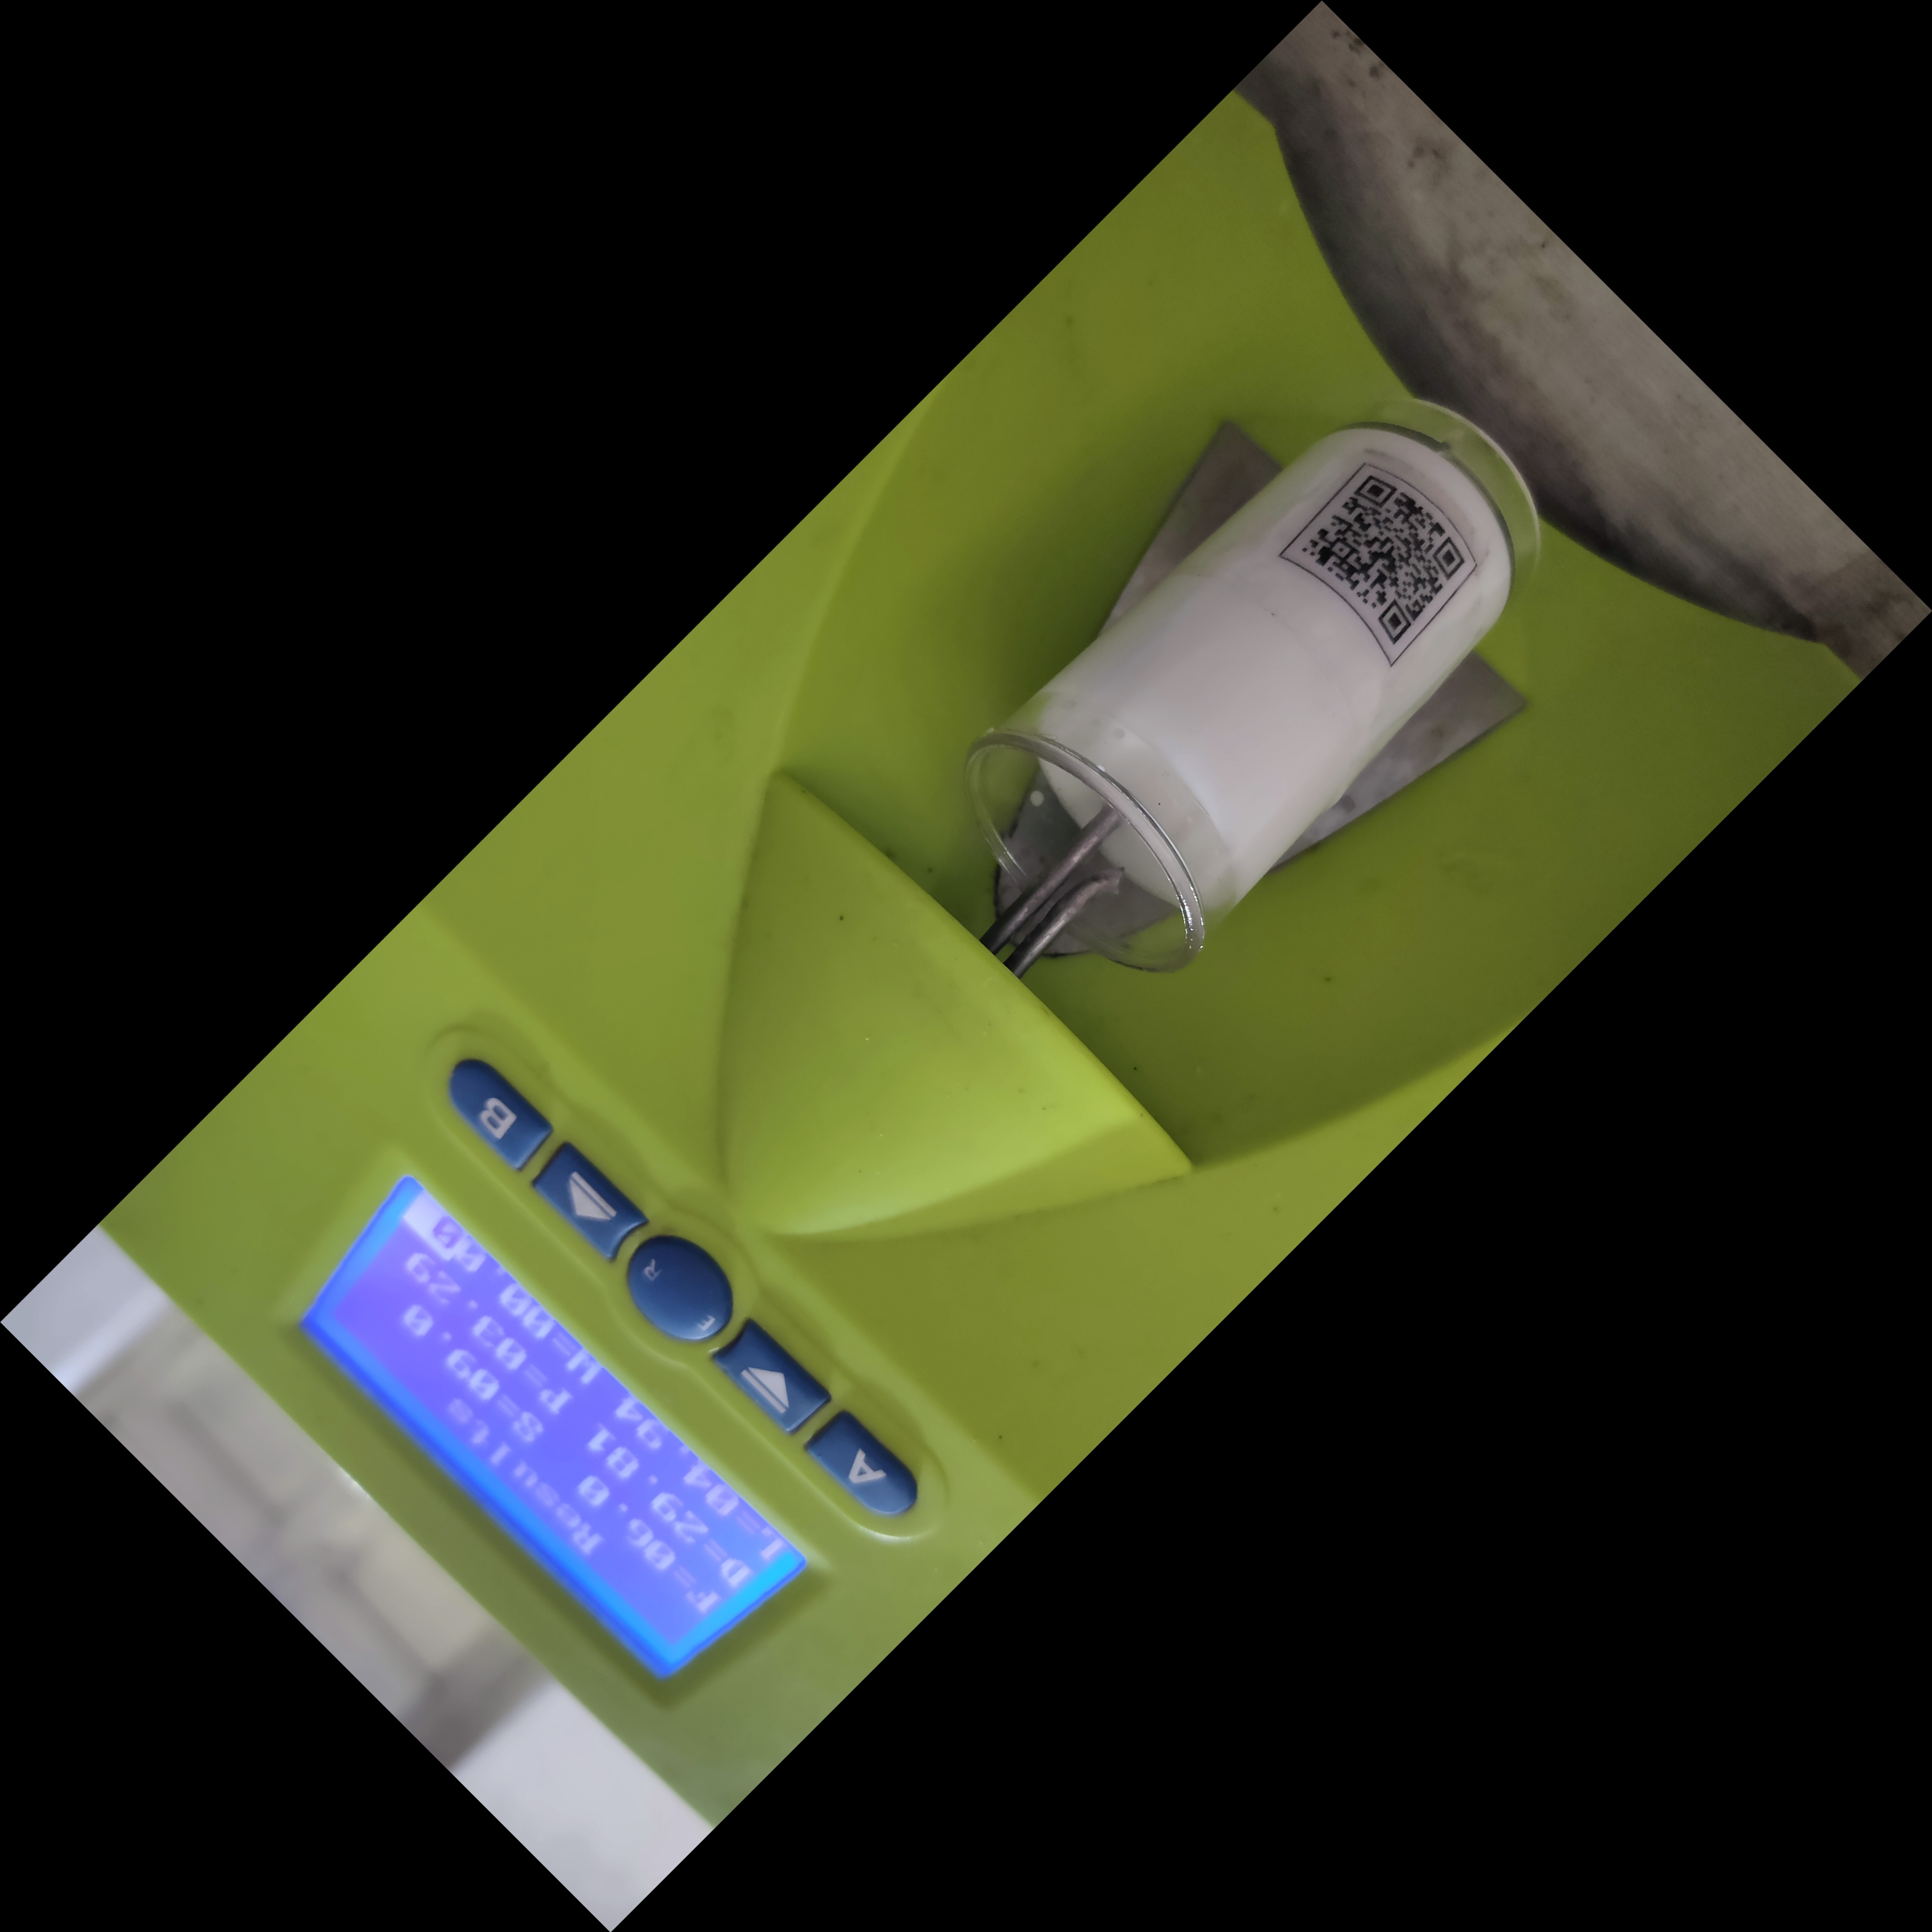lcd: (281, 1169, 862, 1727)
qr: (1246, 432, 1500, 679)
